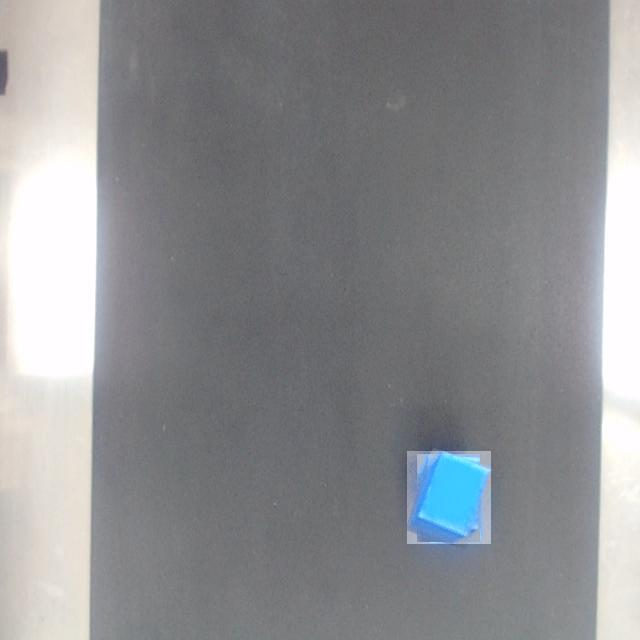Azul: (408, 452, 491, 544)
